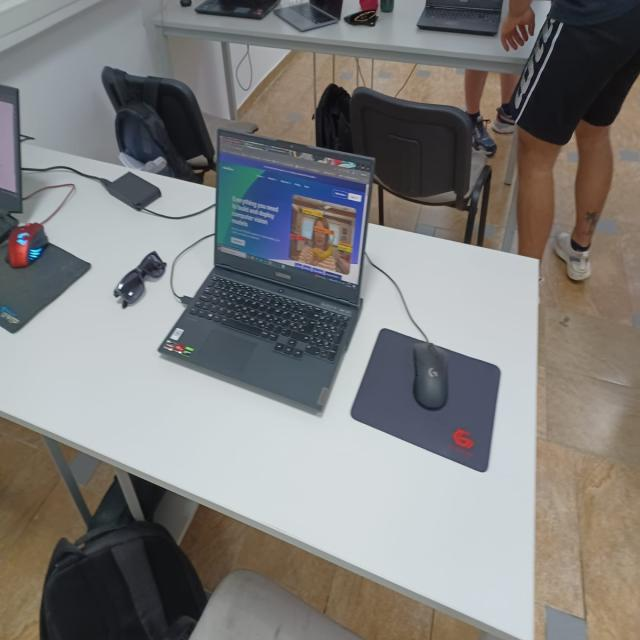Laptops_bbox: (156, 83, 389, 461)
